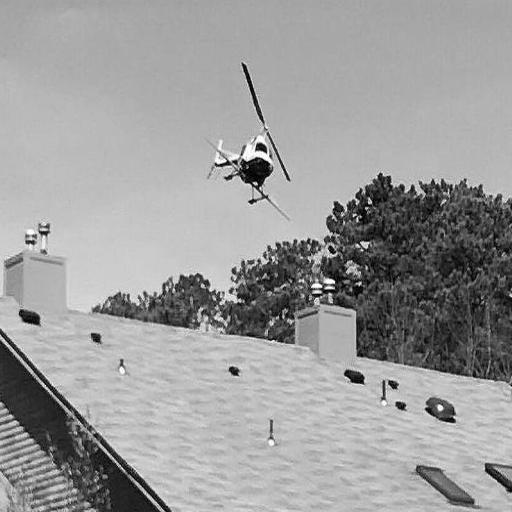helicopter: (208, 59, 294, 231)
